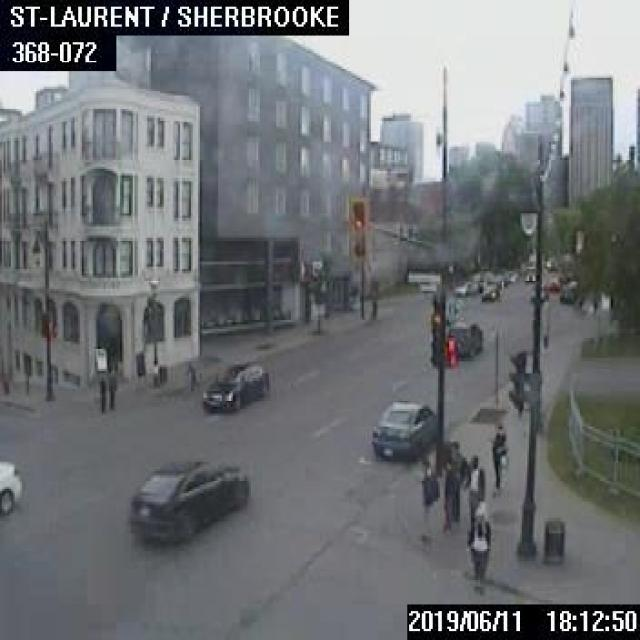pedestrian: (465, 501, 491, 589), (446, 439, 467, 521), (463, 454, 484, 536), (419, 459, 439, 537), (489, 422, 506, 493), (442, 454, 455, 531), (107, 370, 116, 406), (98, 375, 106, 409), (186, 358, 194, 391)
vehicle: (125, 456, 248, 540), (372, 402, 448, 464), (200, 358, 267, 409), (445, 318, 480, 358), (0, 456, 22, 514), (479, 282, 498, 300), (558, 282, 575, 302), (451, 281, 466, 293), (524, 265, 534, 280)
